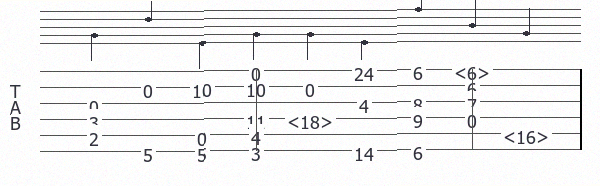0: (89, 94, 103, 111), (143, 78, 157, 95), (197, 126, 211, 143), (251, 62, 265, 79), (305, 78, 319, 95), (467, 110, 481, 127)
10: (192, 78, 216, 95), (246, 78, 270, 95)
11: (246, 110, 270, 127)
14: (354, 142, 378, 159)
2: (89, 126, 103, 143)
24: (354, 62, 378, 79)
3: (89, 110, 103, 127), (251, 142, 265, 159)
4: (251, 126, 265, 143), (359, 94, 373, 111)
5: (143, 142, 157, 159), (197, 142, 211, 159)
6: (413, 142, 427, 159), (413, 62, 427, 79), (467, 78, 481, 95)
7: (467, 94, 481, 111)
8: (413, 94, 427, 111)
9: (413, 110, 427, 127)
harmonic: (287, 110, 337, 127), (503, 126, 553, 143), (454, 62, 494, 79)
